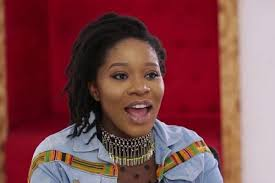person: (65, 13, 164, 139)
